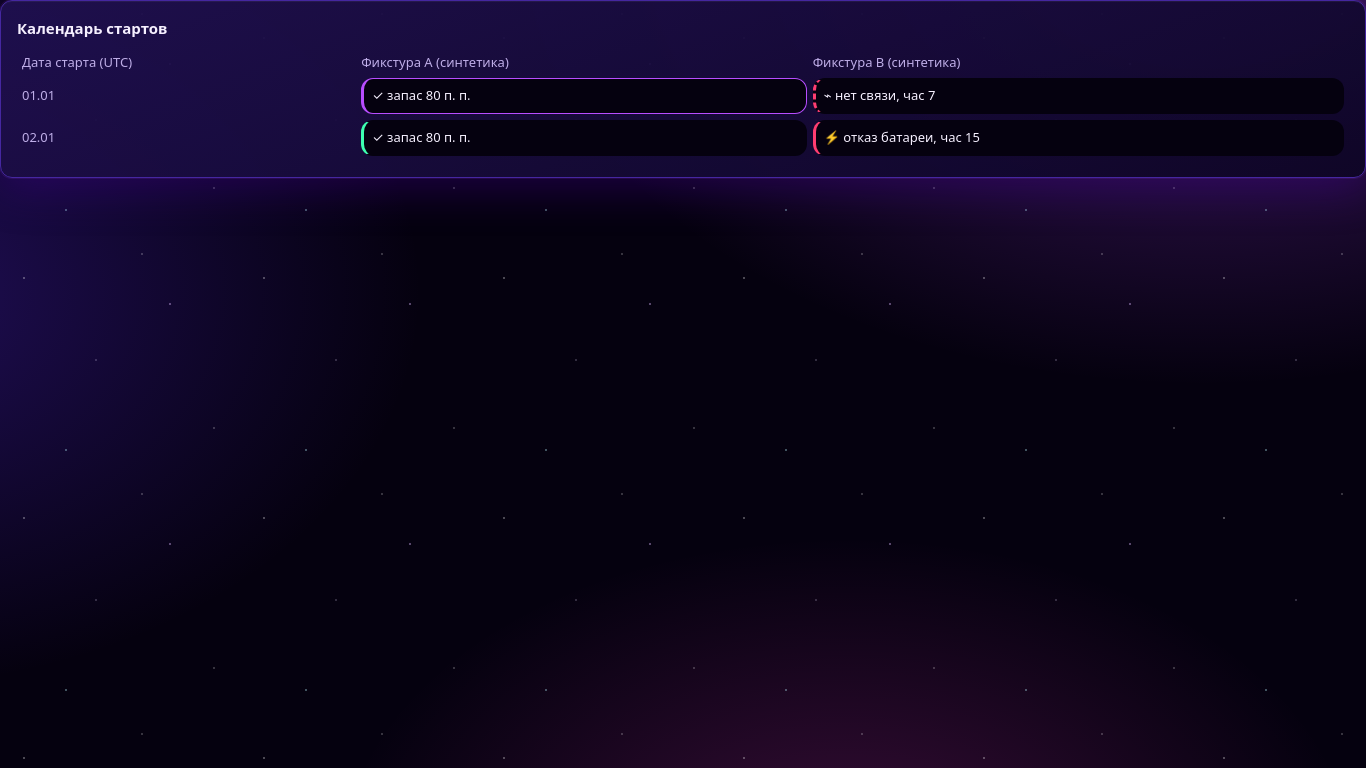
Test: Calendar › marks the cell of the current plan as selected and selects another on click
Click the button "⌁ нет связи, час 7". click: [885, 95]
box: [813,78,1344,114]
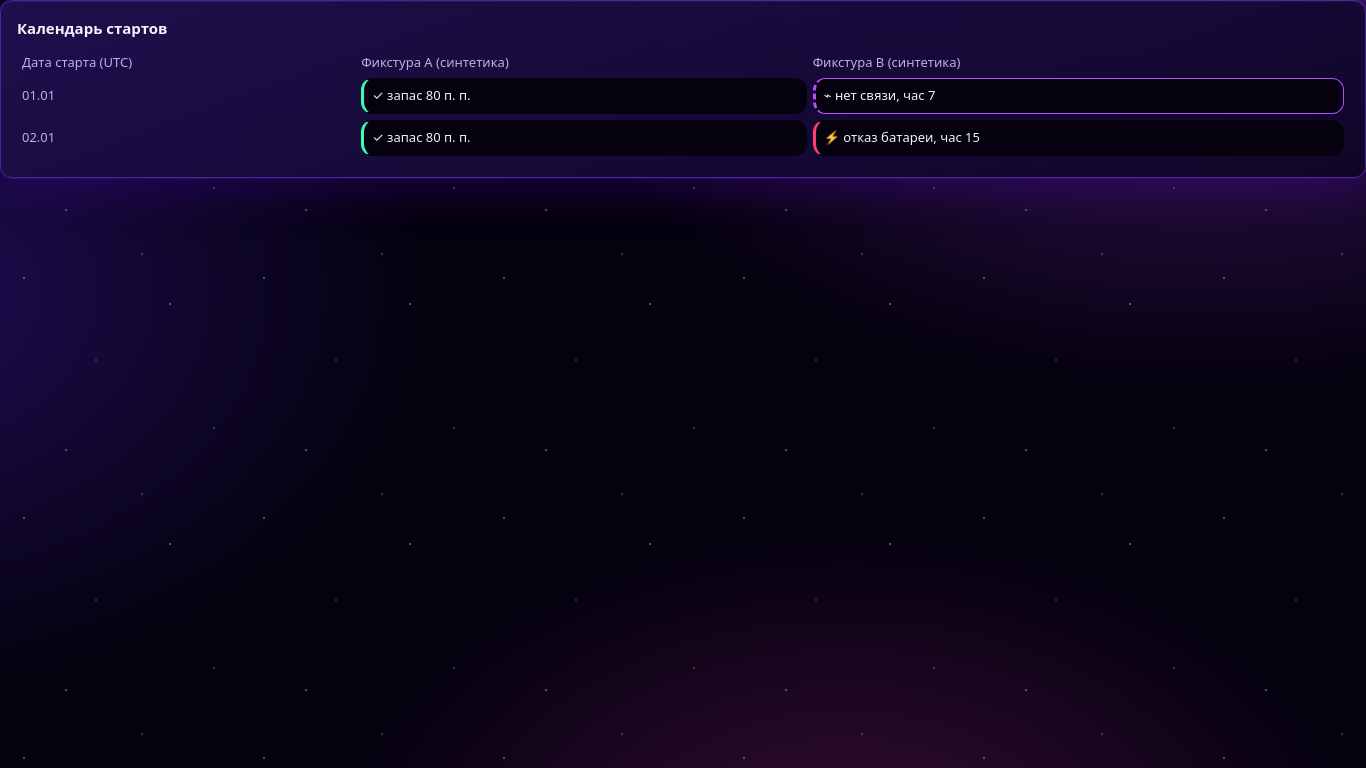
Expected: the button "⌁ нет связи, час 7" is pressed, [813,78,1344,114]
